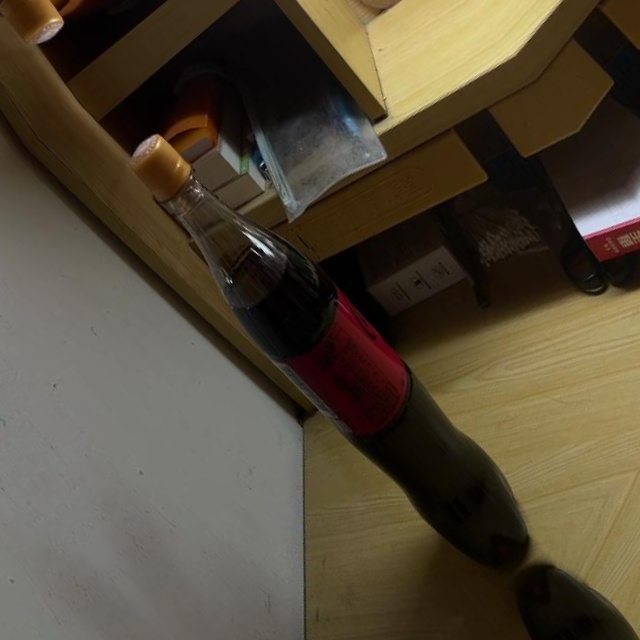Coca-Cola: (110, 100, 556, 602)
